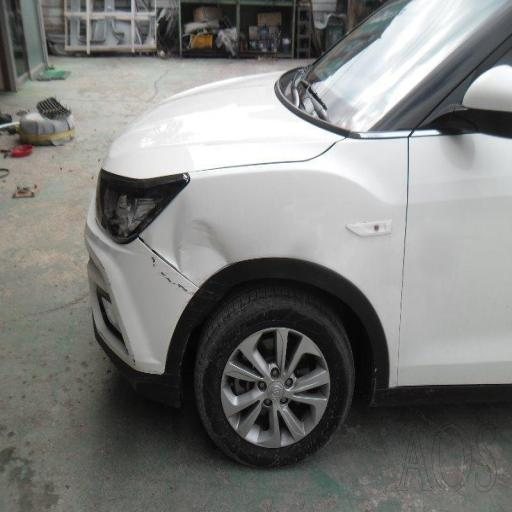dent: (149, 165, 240, 310)
